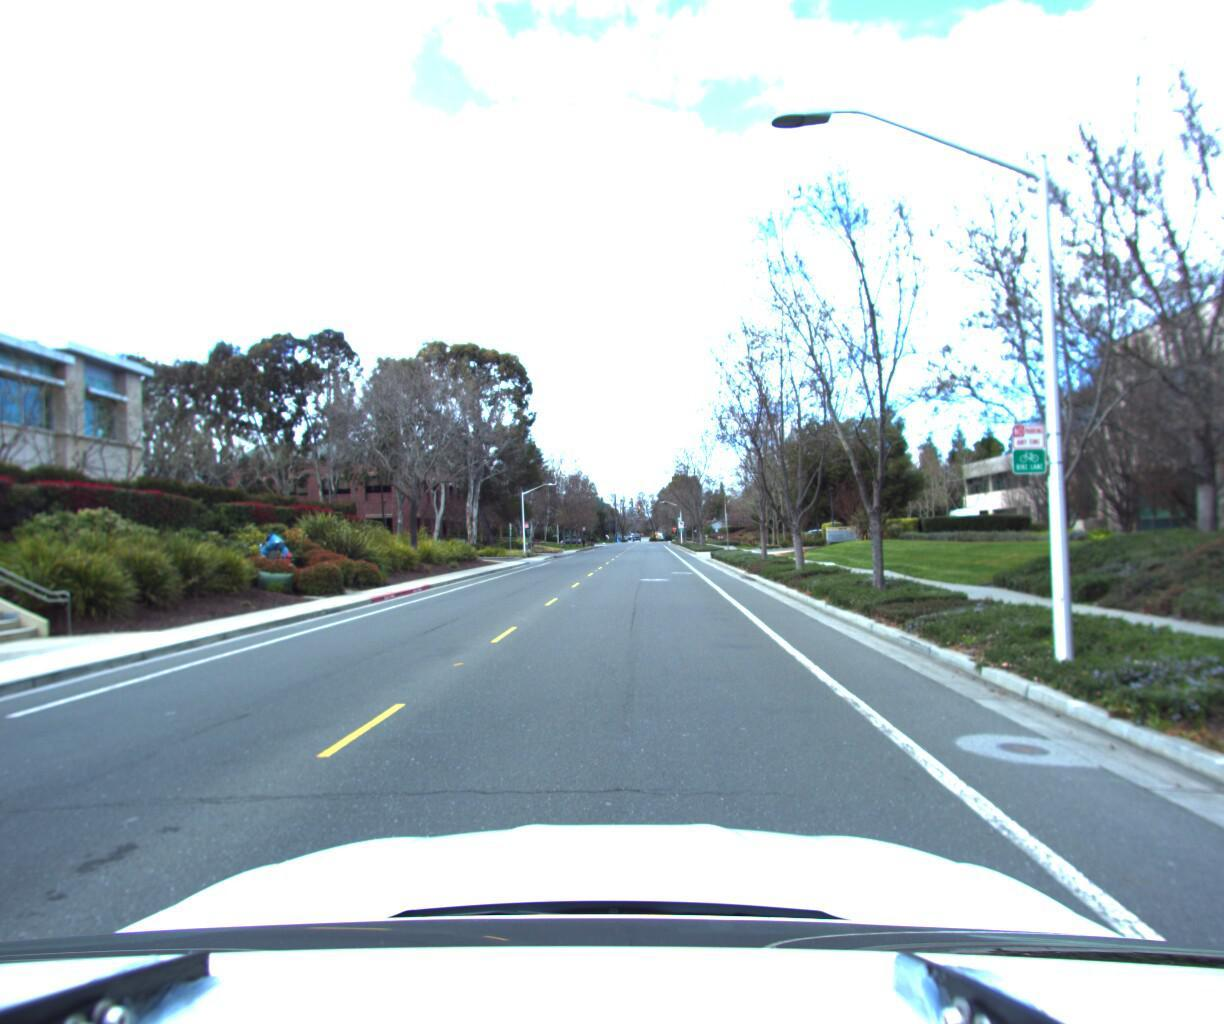car: (937, 503, 983, 540)
